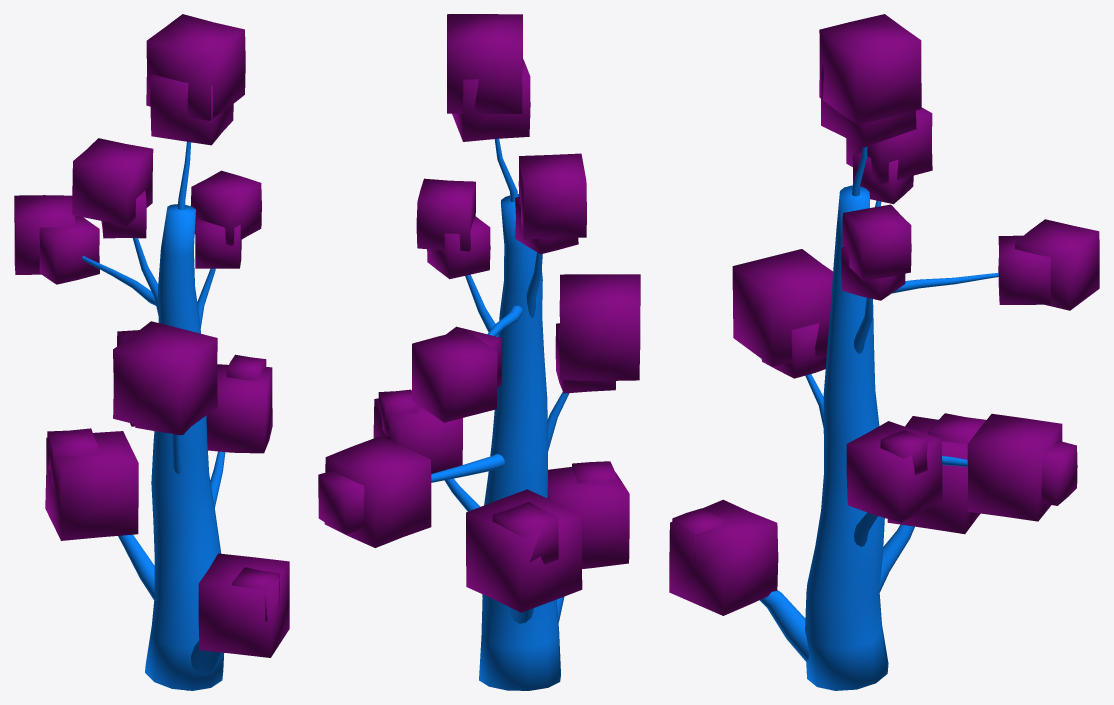
File: AnaliseTree.fbx
The picture shows the model from 3 angles, left to right: view 1: azimuth 30°, elevation 25°; view 2: azimuth 150°, elevation 25°; view 3: azimuth 270°, elevation 25°; orthographic projection. The views are drawn at different scales.
Visible parts, largest first — view 1: merge1; view 2: merge1; view 3: merge1.
Part boxes in pixels (left/top/right/bottom): merge1: left=14, top=14, right=289, bottom=690; merge1: left=318, top=14, right=640, bottom=690; merge1: left=669, top=14, right=1099, bottom=690.
Bounding box in the file's own units: 11.88 × 34.9 × 20.55.
